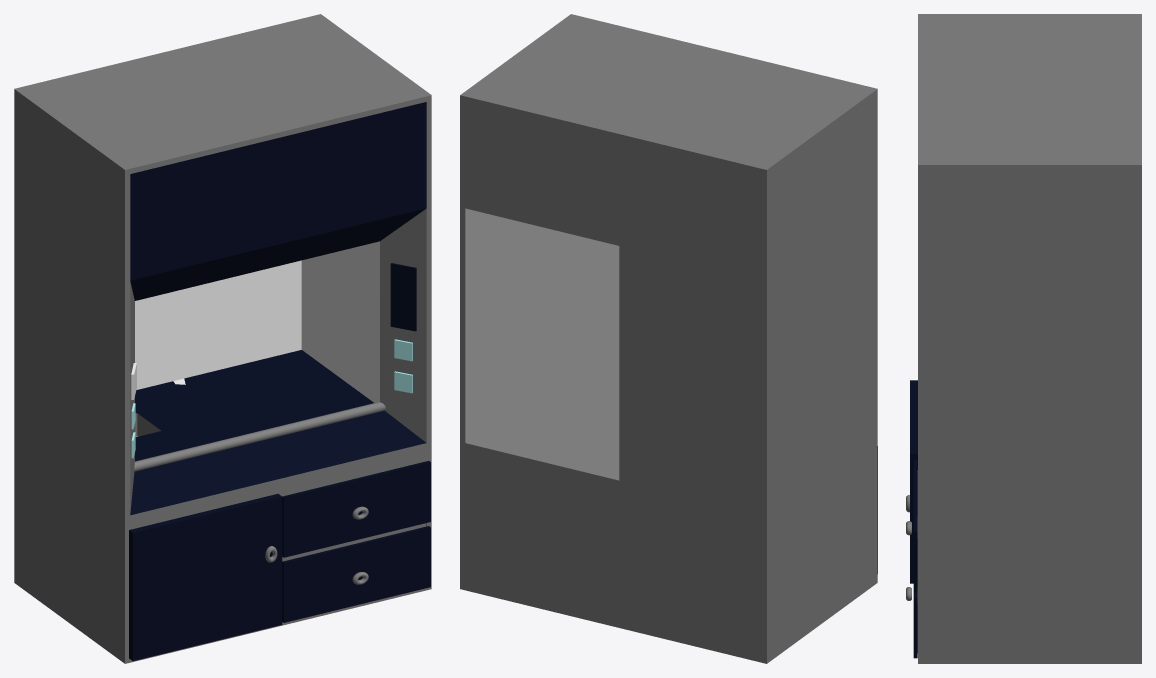
The model's file is 通风橱3.obj.
The picture shows the model from 3 angles, left to right: view 1: azimuth 30°, elevation 25°; view 2: azimuth 150°, elevation 25°; view 3: azimuth 270°, elevation 25°; orthographic projection.
Parts seen in each view (by area): view 1: guizi:guizi guizi:polySurface9, guizi:guizi guizi:guizi1:polySurface10, guizi:guizi guizi:guizi2:group2, guizi:guizi guizi:guizi3:group3, guizi:guizi guizi:polySurface12, guizi:guizi guizi:polySurface5; view 2: guizi:guizi guizi:polySurface9; view 3: guizi:guizi guizi:polySurface9, guizi:guizi guizi:guizi1:polySurface10, guizi:guizi guizi:guizi2:group2, guizi:guizi guizi:guizi3:group3.
Boxes of the visible parts, bbox=[...] form: guizi:guizi guizi:polySurface9: bbox=[14, 14, 431, 663]; guizi:guizi guizi:guizi1:polySurface10: bbox=[129, 493, 282, 660]; guizi:guizi guizi:guizi2:group2: bbox=[282, 461, 430, 557]; guizi:guizi guizi:guizi3:group3: bbox=[282, 526, 430, 622]; guizi:guizi guizi:polySurface12: bbox=[134, 402, 385, 471]; guizi:guizi guizi:polySurface5: bbox=[390, 263, 416, 331]; guizi:guizi guizi:polySurface9: bbox=[460, 14, 877, 663]; guizi:guizi guizi:polySurface9: bbox=[918, 14, 1141, 663]; guizi:guizi guizi:guizi1:polySurface10: bbox=[906, 380, 917, 583]; guizi:guizi guizi:guizi2:group2: bbox=[906, 459, 917, 592]; guizi:guizi guizi:guizi3:group3: bbox=[906, 587, 917, 658].
Bounding box in the file's own units: 17.93 × 27.59 × 11.82.
